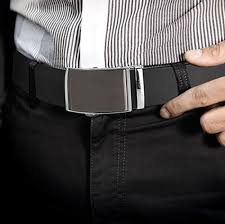F_belt: (2, 45, 225, 122)
